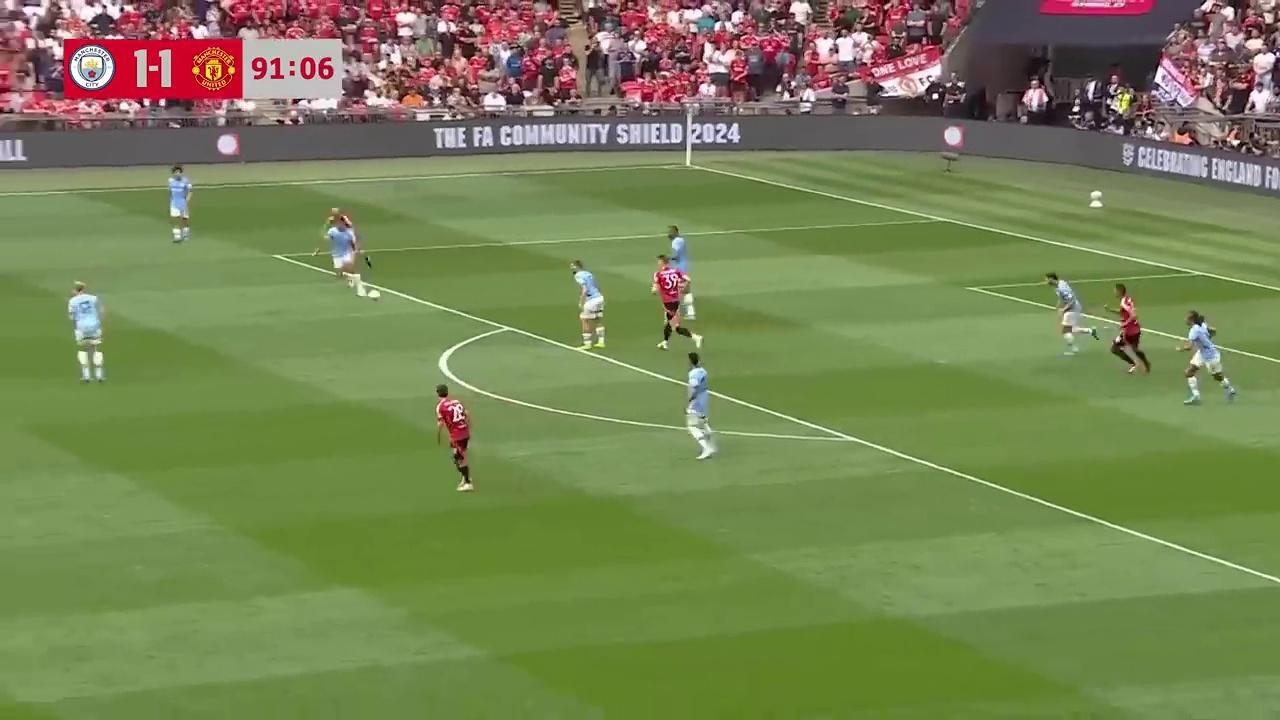ball: (367, 286, 383, 301)
player: (1044, 272, 1096, 353), (67, 280, 106, 384), (435, 386, 474, 490), (1108, 285, 1151, 376), (320, 209, 364, 290), (685, 350, 717, 459), (333, 220, 378, 297), (1181, 311, 1227, 384), (570, 259, 605, 347), (650, 254, 681, 349), (168, 163, 193, 242), (665, 225, 689, 292)
